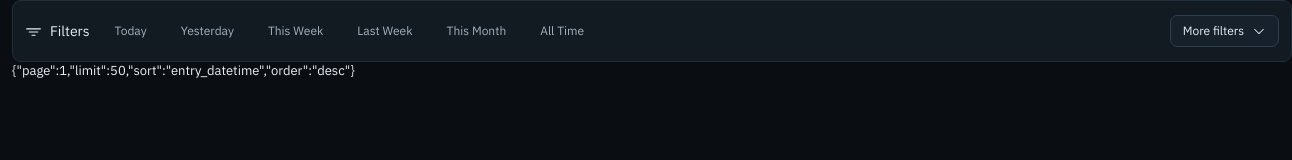
FilterBar › derives trade date presets from the supplied user timezone
Click the button "Today": (131, 31) [102,15,160,47]
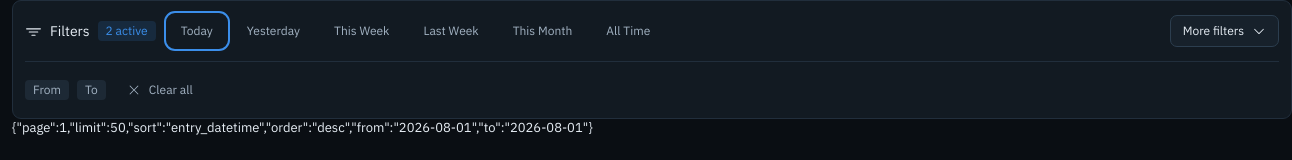
Expected: the text named "Filter state" shows "\"from\":\"2026-08-01\"", [12,119,593,136]
Expected: the text named "Filter state" shows "\"to\":\"2026-08-01\"", [12,119,593,136]
